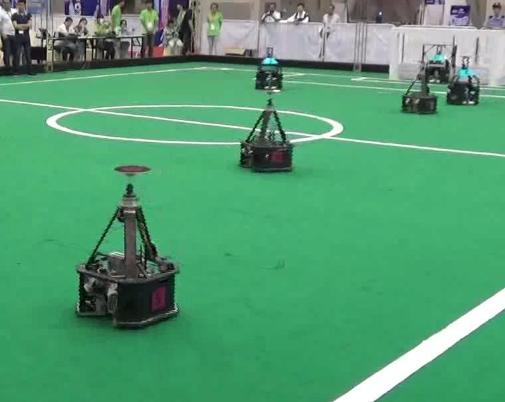robot: (72, 161, 179, 328), (238, 77, 296, 175)
